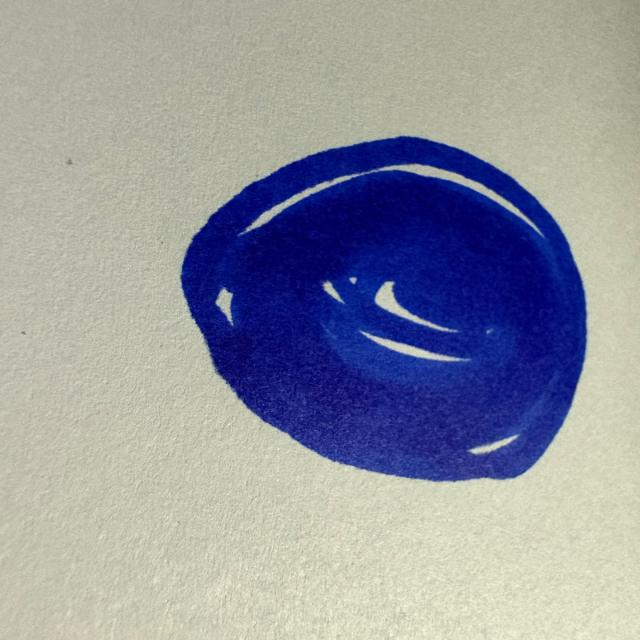Circle: (173, 127, 592, 488)
